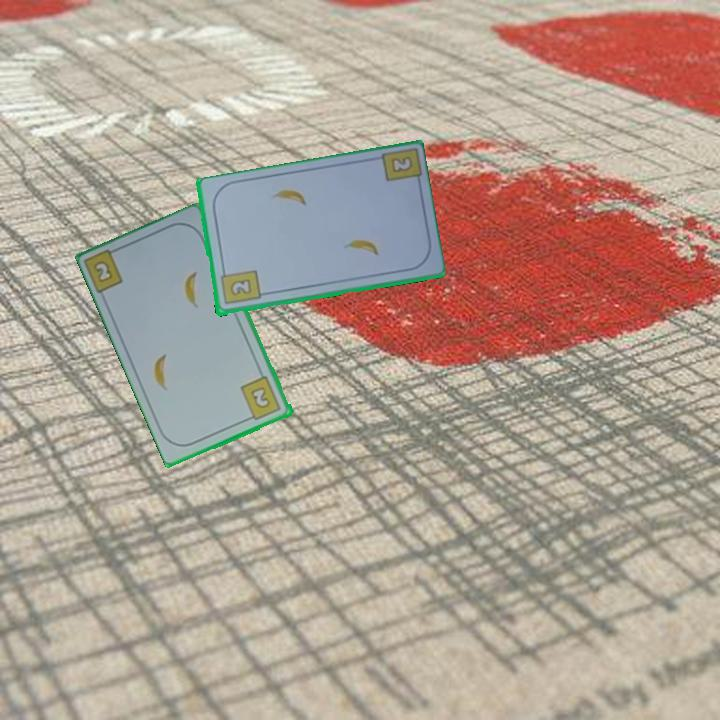2b: (237, 373, 284, 423), (83, 244, 126, 297), (217, 266, 263, 308), (390, 155, 413, 174)
